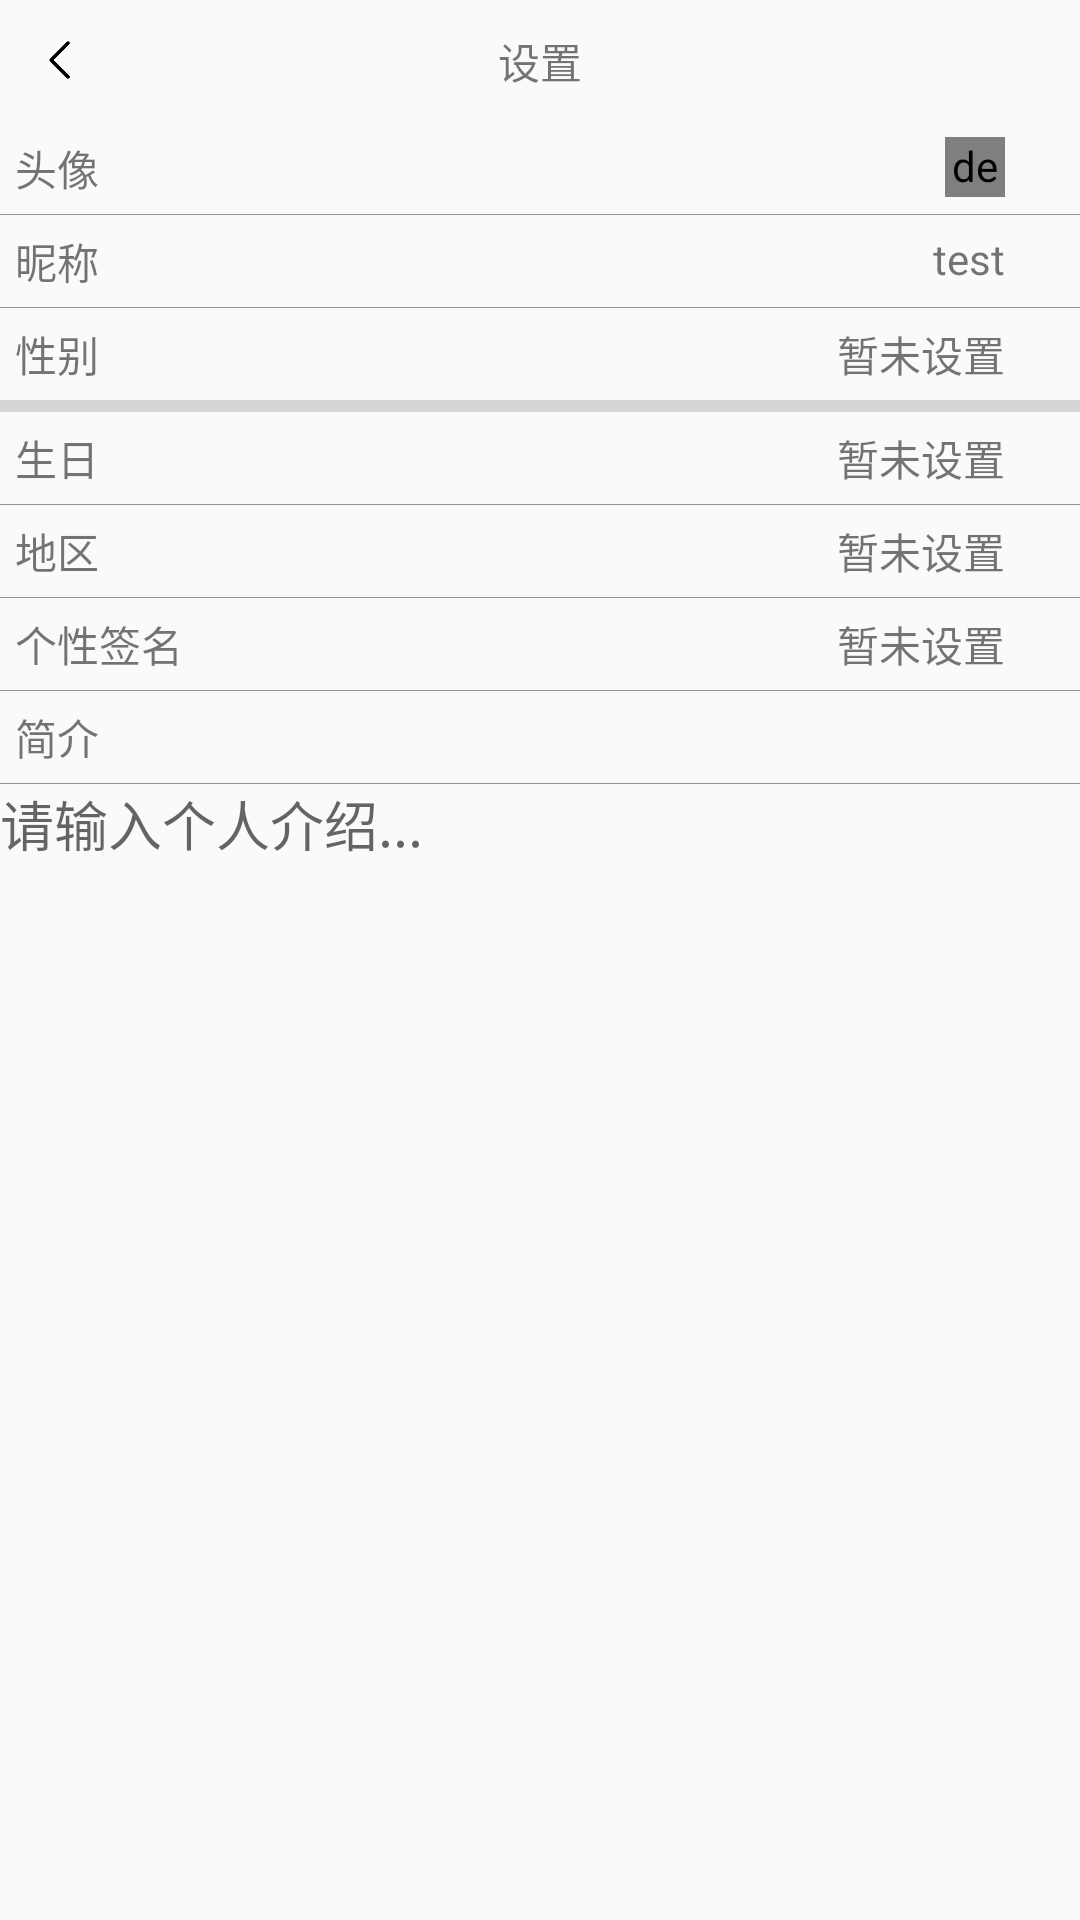

Icons on this 1080px×1920px Android screen, each with its box as (x1, y1, x2, y2):
leftjiantou: (49, 41, 70, 79)
